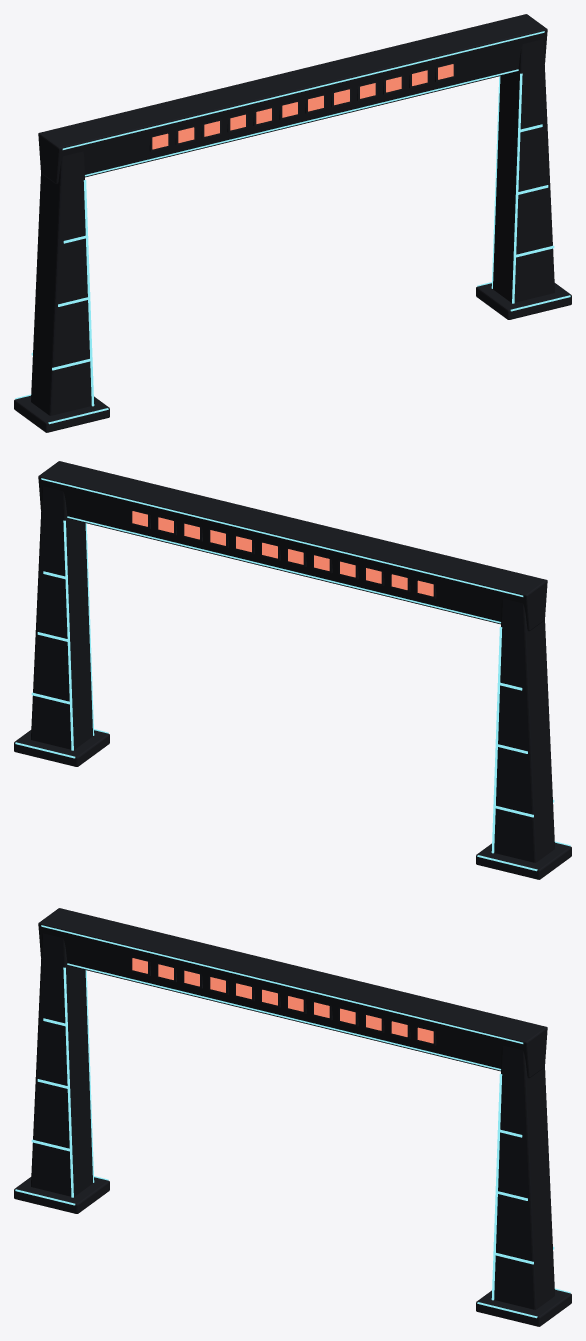
The model's file is start-gantry.glb.
The picture shows the model from 3 angles, top to bottom: view 1: azimuth 30°, elevation 25°; view 2: azimuth 150°, elevation 25°; view 3: azimuth 330°, elevation 25°; orthographic projection.
Parts seen in each view (by area): view 1: Body, Trim, Lamps; view 2: Body, Trim, Lamps; view 3: Body, Trim, Lamps.
Part boxes in pixels (left/top/right/bottom): Body: left=14, top=14, right=571, bottom=432; Trim: left=15, top=31, right=570, bottom=424; Lamps: left=152, top=64, right=453, bottom=149; Body: left=14, top=461, right=571, bottom=879; Trim: left=15, top=478, right=570, bottom=871; Lamps: left=132, top=511, right=433, bottom=596; Body: left=14, top=908, right=571, bottom=1326; Trim: left=15, top=925, right=570, bottom=1318; Lamps: left=132, top=958, right=433, bottom=1043.
Size of the model in its own units: 21.3 by 10.7 by 2.37.
